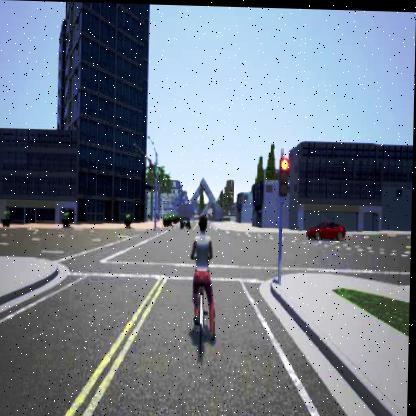bike: (188, 213, 219, 352)
vehicle: (306, 218, 346, 238), (179, 211, 194, 228)
